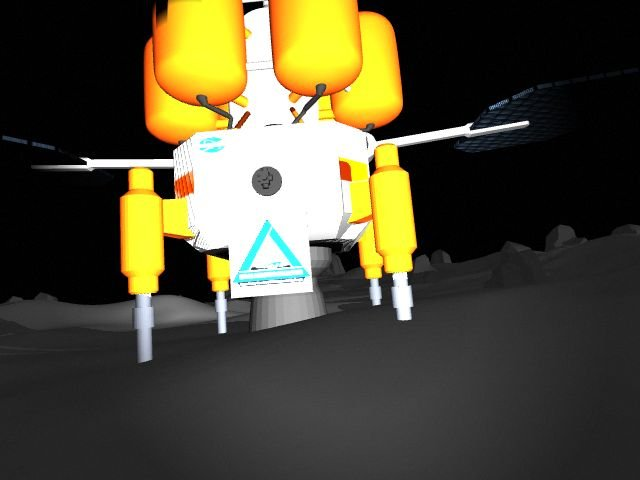basemarker: (232, 217, 312, 288)
